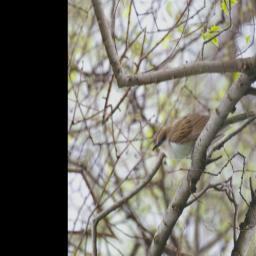Cuckoo: (151, 58, 256, 203)
